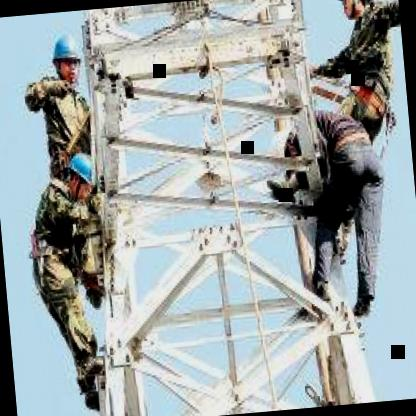helmet: (48, 28, 84, 90), (64, 148, 98, 207), (332, 0, 377, 27)
